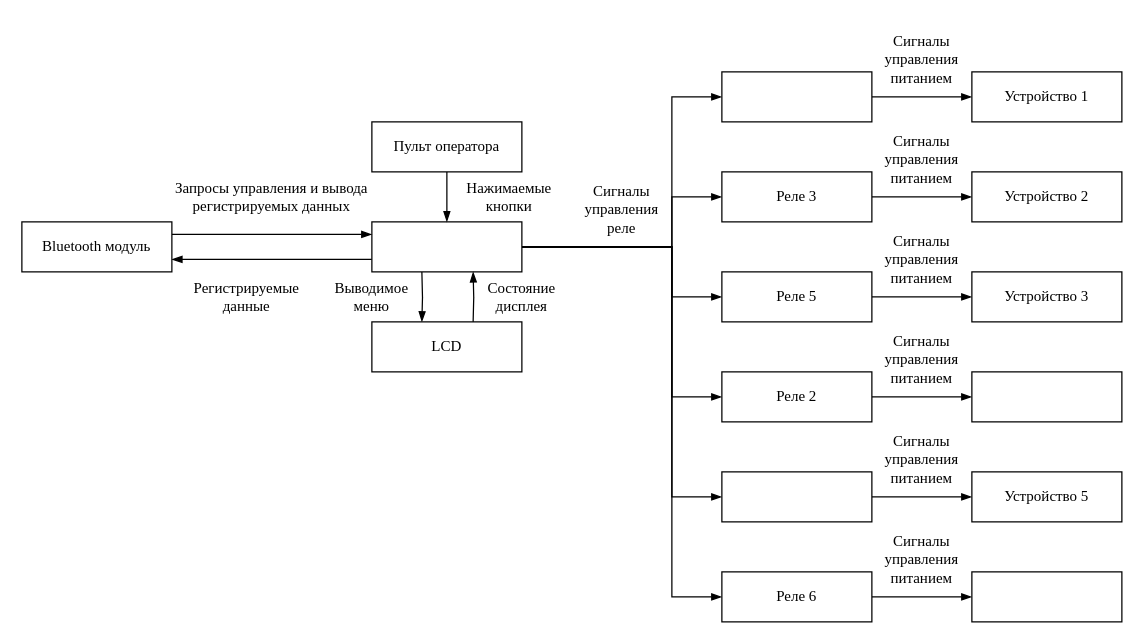
The diagram is 1144 pixels wide and 644 high, and some of its shapes have lost their labels. Each missing label, with the centre of its shape:
МК MDR32F9Q2I: (x=446, y=246)
Реле 1: (x=796, y=96)
Реле 4: (x=796, y=496)
Устройство 4: (x=1046, y=396)
Устройство 6: (x=1046, y=596)
